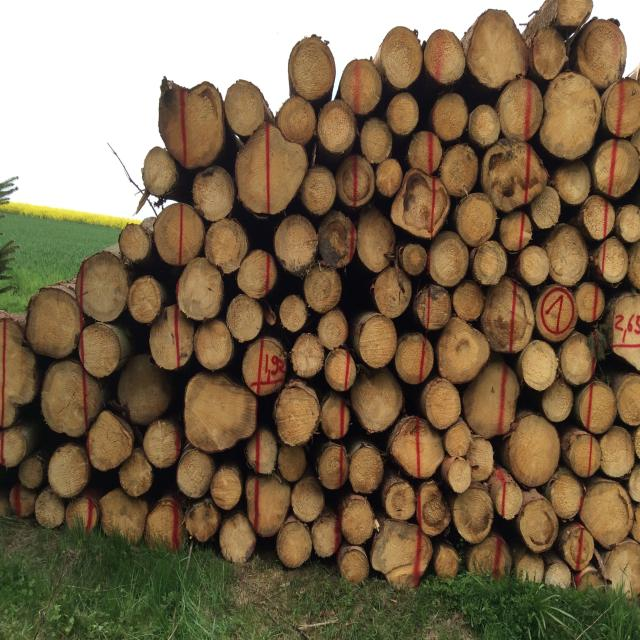wood-log: (243, 120, 309, 214), (186, 372, 258, 453), (161, 83, 227, 169), (541, 74, 602, 161), (42, 361, 108, 439), (464, 362, 523, 441), (468, 11, 527, 89), (487, 140, 552, 209), (480, 279, 535, 355), (28, 287, 86, 358), (504, 416, 560, 489), (0, 316, 38, 421), (118, 352, 174, 422), (394, 174, 453, 240), (74, 254, 130, 322), (234, 126, 274, 218), (577, 482, 630, 550), (369, 523, 431, 581), (435, 317, 489, 383), (389, 415, 445, 478), (351, 372, 404, 436), (576, 21, 626, 88), (153, 200, 205, 264), (148, 305, 193, 372), (498, 79, 546, 141), (288, 38, 335, 101), (88, 408, 136, 469), (590, 137, 638, 197), (178, 258, 224, 320), (274, 385, 320, 447), (242, 337, 290, 396), (354, 207, 396, 274), (273, 216, 318, 278), (248, 475, 293, 536), (378, 28, 422, 90), (546, 223, 590, 285), (102, 487, 150, 543), (221, 82, 265, 138), (422, 30, 465, 87), (47, 442, 92, 496), (192, 165, 236, 220), (451, 487, 492, 546), (206, 216, 249, 272), (340, 59, 382, 115), (429, 230, 471, 286), (354, 314, 396, 370), (456, 192, 499, 246), (518, 496, 558, 553), (80, 324, 122, 378), (574, 380, 616, 434), (337, 153, 377, 209), (538, 284, 578, 339), (321, 208, 357, 269), (319, 100, 358, 156), (395, 332, 437, 384), (148, 497, 189, 550), (604, 540, 640, 599), (144, 420, 186, 470), (194, 320, 236, 370), (613, 295, 640, 372), (441, 144, 480, 197), (237, 250, 279, 299), (421, 377, 461, 428), (518, 339, 558, 390), (373, 266, 412, 318), (530, 29, 568, 82), (606, 79, 640, 138), (303, 263, 343, 313), (340, 496, 380, 546), (219, 510, 257, 562), (559, 333, 597, 385), (176, 448, 215, 498), (469, 535, 512, 579), (277, 96, 316, 144), (418, 482, 451, 538), (600, 427, 636, 478), (433, 92, 470, 141), (348, 443, 384, 493), (144, 148, 180, 198), (128, 275, 165, 323), (301, 166, 336, 216), (414, 285, 452, 331), (226, 295, 263, 342), (276, 518, 312, 566), (560, 522, 594, 572), (490, 470, 524, 520), (566, 430, 601, 478), (553, 160, 590, 205), (290, 332, 326, 378), (549, 472, 583, 520), (120, 451, 156, 496), (245, 429, 279, 476), (358, 118, 393, 163), (474, 240, 508, 286), (580, 195, 614, 240), (408, 130, 444, 172), (323, 392, 353, 442), (326, 347, 360, 391), (600, 239, 632, 285), (187, 499, 220, 543), (292, 477, 324, 522), (316, 442, 346, 489), (499, 212, 534, 252), (453, 279, 486, 321), (573, 280, 606, 322), (211, 468, 243, 511), (469, 103, 501, 146), (530, 187, 562, 230), (119, 224, 154, 263), (452, 431, 494, 463), (541, 379, 572, 422), (387, 92, 418, 135), (384, 479, 416, 520), (464, 438, 494, 481), (316, 310, 348, 350), (312, 512, 341, 556), (519, 246, 550, 287), (278, 294, 308, 334), (338, 547, 370, 584), (35, 488, 64, 528), (376, 158, 405, 198), (618, 374, 640, 426), (277, 445, 307, 483), (442, 457, 472, 494), (445, 421, 474, 459), (2, 427, 27, 469), (518, 551, 548, 585), (556, 0, 594, 26), (435, 543, 461, 581), (19, 456, 45, 492), (613, 338, 640, 372), (8, 483, 34, 517), (545, 560, 573, 590), (618, 204, 640, 242), (402, 243, 427, 276), (1, 393, 16, 429), (628, 463, 640, 505), (630, 243, 640, 291), (632, 508, 640, 542), (634, 426, 640, 456), (632, 130, 640, 152)
